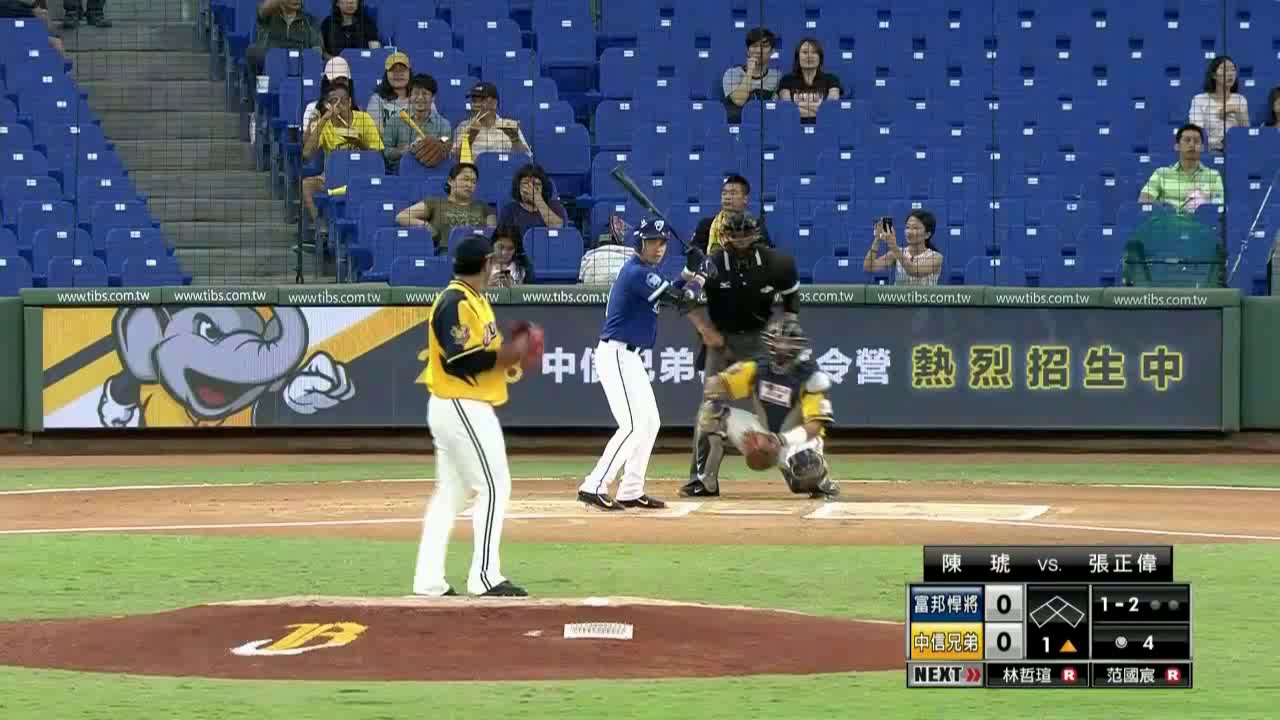ball: (517, 335, 522, 351)
base: (1027, 586, 1087, 632)
bat: (614, 168, 695, 253)
out: (1147, 592, 1184, 619)
score1: (989, 591, 1019, 619)
score2: (990, 625, 1021, 659)
session: (1027, 633, 1090, 659)
strikeball: (1094, 589, 1143, 619)
total: (1109, 626, 1156, 653)
